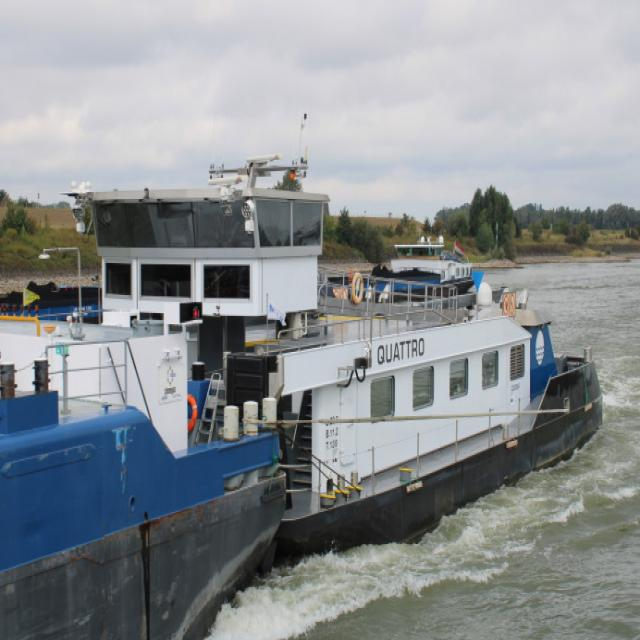tugboat: (27, 151, 609, 573)
